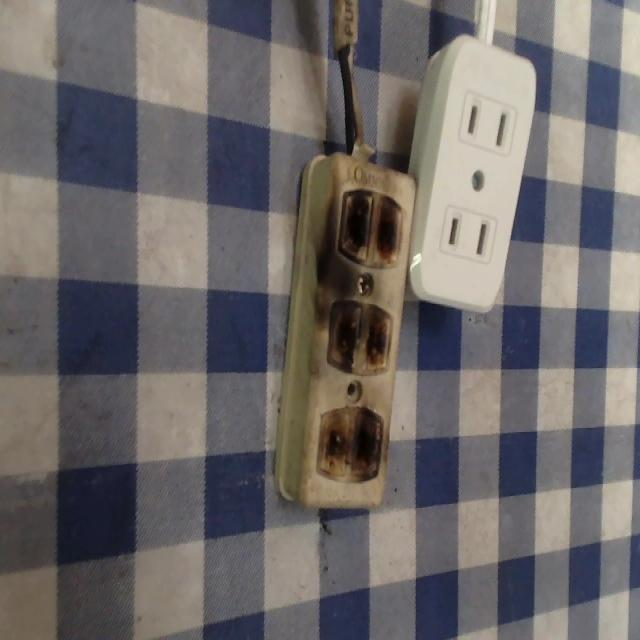-: (323, 296, 396, 376), (338, 182, 404, 270), (318, 406, 382, 491)
